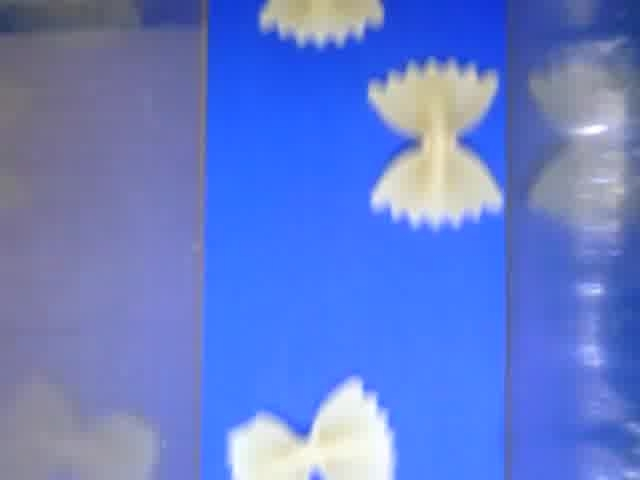farfalle: (369, 57, 502, 230), (227, 374, 398, 480), (257, 1, 387, 48)
